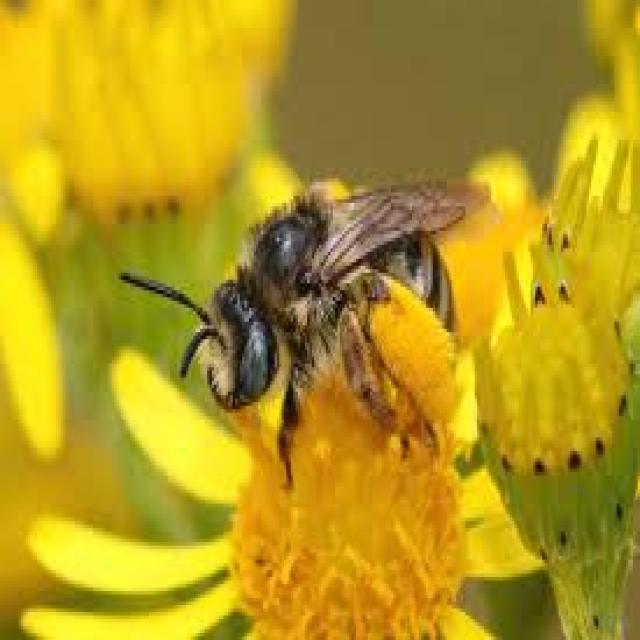Bees: (118, 170, 493, 490)
